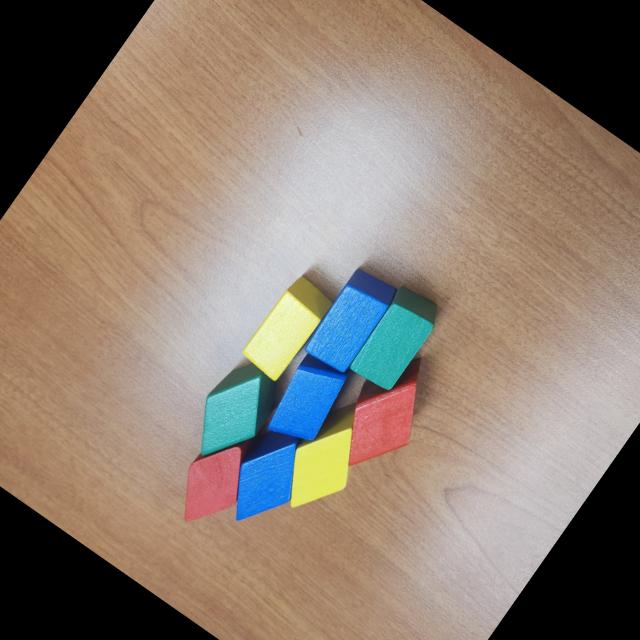blue: (210, 418, 321, 539), (248, 344, 355, 461), (300, 262, 400, 377)
green: (174, 351, 290, 476), (344, 282, 446, 396)
red: (320, 338, 452, 486), (162, 418, 270, 538)
yellow: (266, 388, 388, 526), (238, 271, 336, 382)
